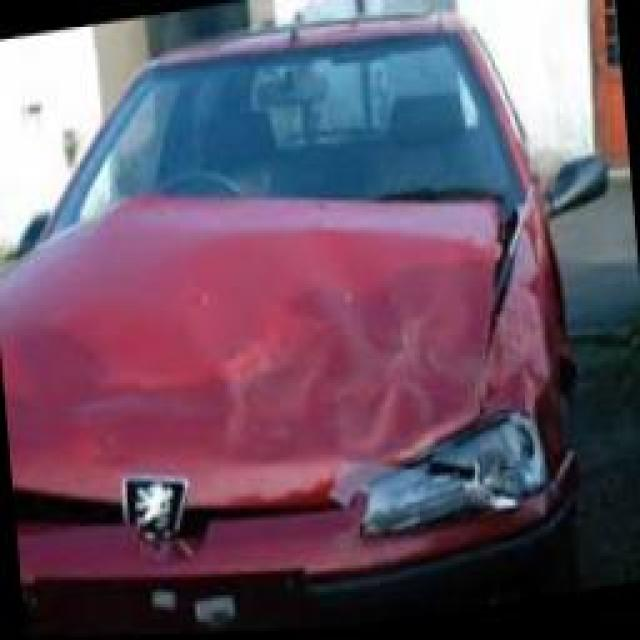replaceable: (255, 275, 565, 424), (360, 450, 566, 524)
